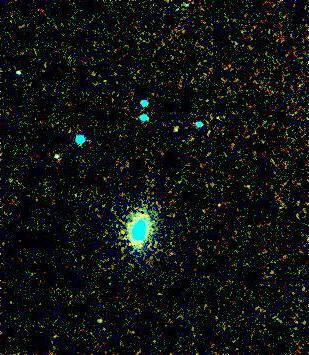star: (159, 114, 189, 144)
